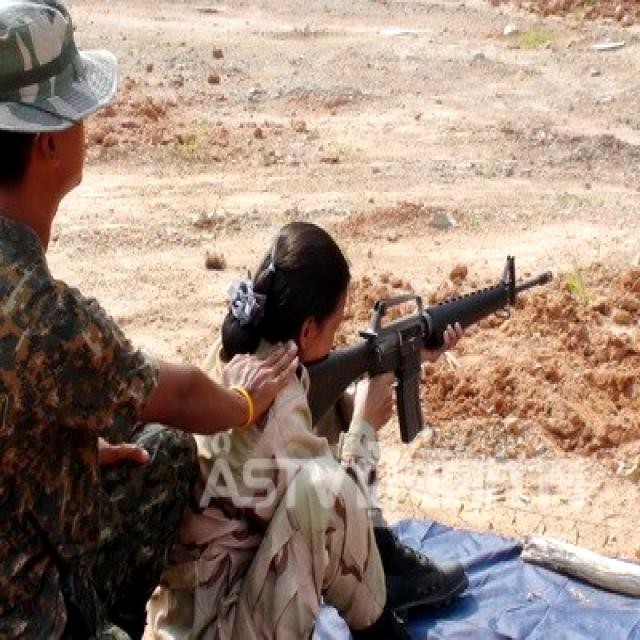m16: (302, 195, 580, 478)
